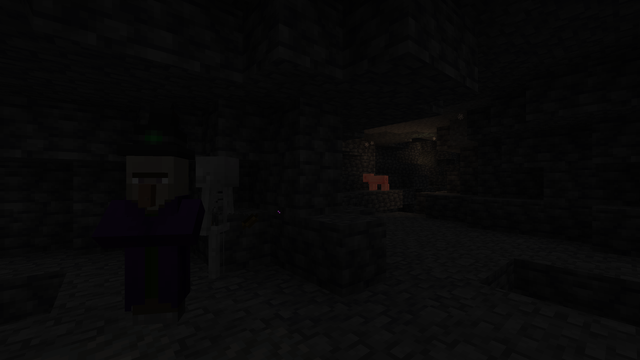cochons: (367, 175, 388, 190)
sorcieres: (126, 147, 194, 341)
squelettes: (202, 156, 241, 284)
